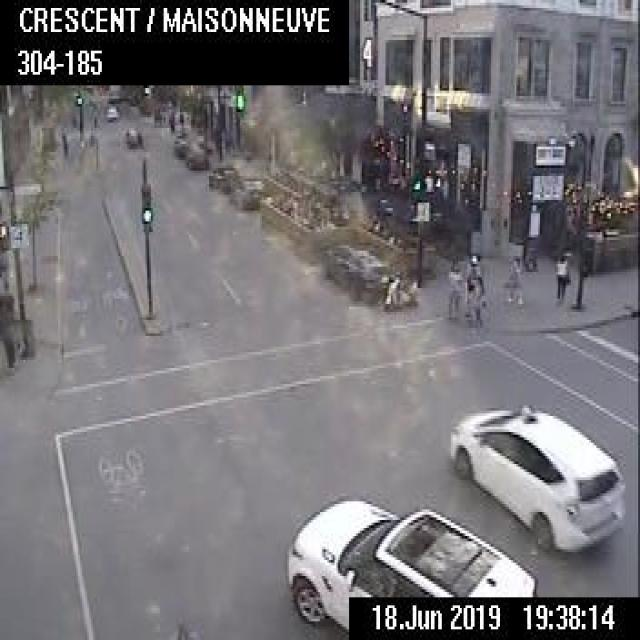pedestrian: (464, 248, 481, 315), (505, 254, 524, 304), (445, 260, 459, 318), (553, 250, 567, 304)
vehicle: (284, 493, 536, 632), (444, 402, 627, 554), (320, 240, 388, 300), (381, 269, 420, 309), (228, 171, 266, 211), (206, 162, 238, 189), (172, 129, 194, 156), (122, 123, 144, 149), (184, 144, 207, 167)
